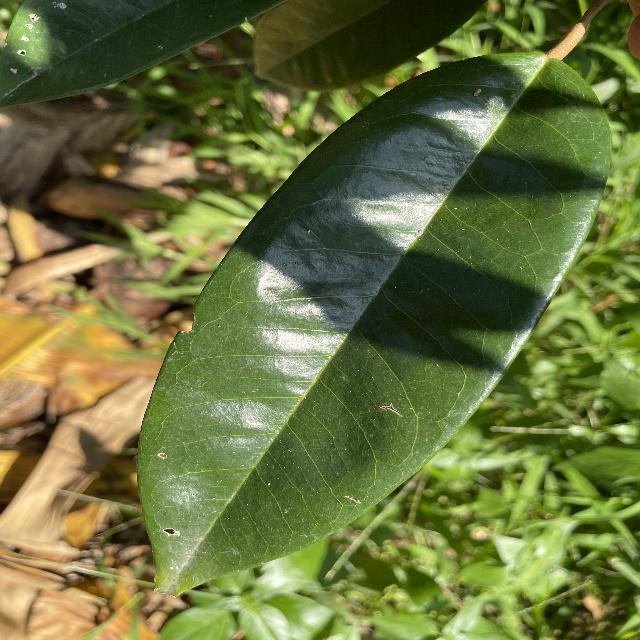No Disease: (127, 41, 621, 605)
